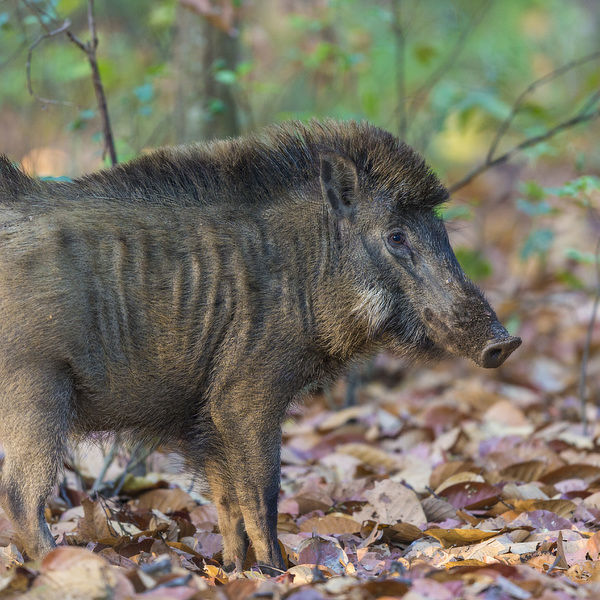wild boar: (1, 111, 518, 576)
